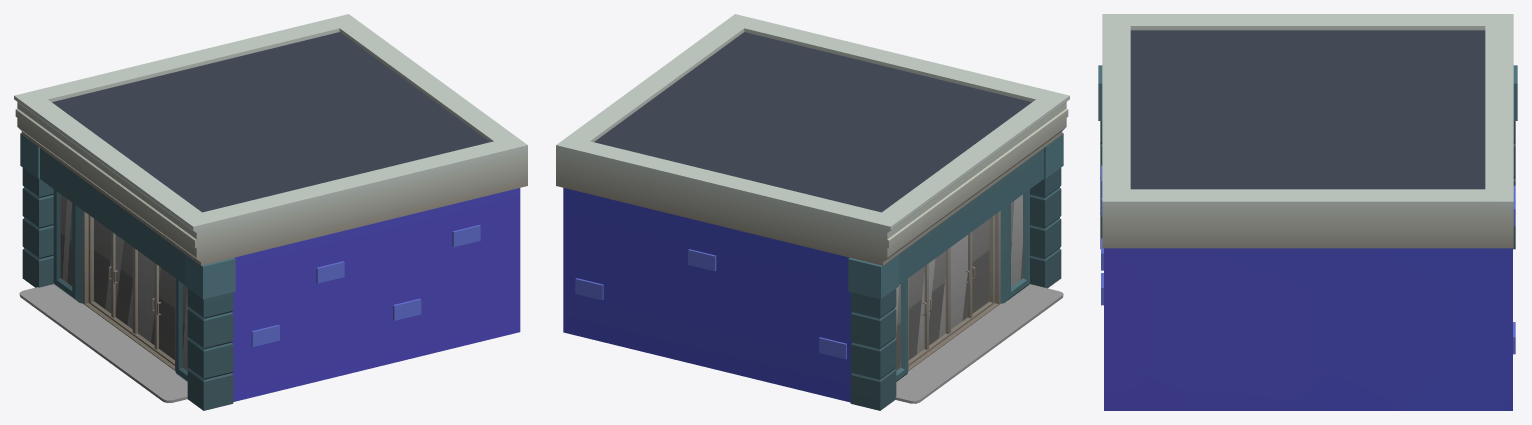
File: Building_21_5_G.fbx
The picture shows the model from 3 angles, left to right: view 1: azimuth 30°, elevation 25°; view 2: azimuth 150°, elevation 25°; view 3: azimuth 270°, elevation 25°; orthographic projection. The views are drawn at different scales.
Parts seen in each view (by area): view 1: Building_21_5_G; view 2: Building_21_5_G; view 3: Building_21_5_G.
Boxes of the visible parts, <box> form: Building_21_5_G: <box>14,14,527,410</box>; Building_21_5_G: <box>556,14,1069,410</box>; Building_21_5_G: <box>1098,14,1517,410</box>.
Bounding box in the file's own units: 779 × 400 × 713.
